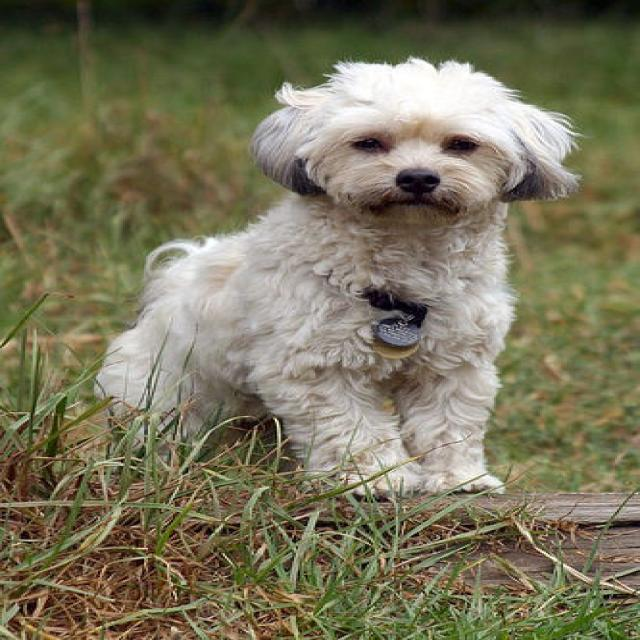dog-havanese: (81, 44, 598, 506)
